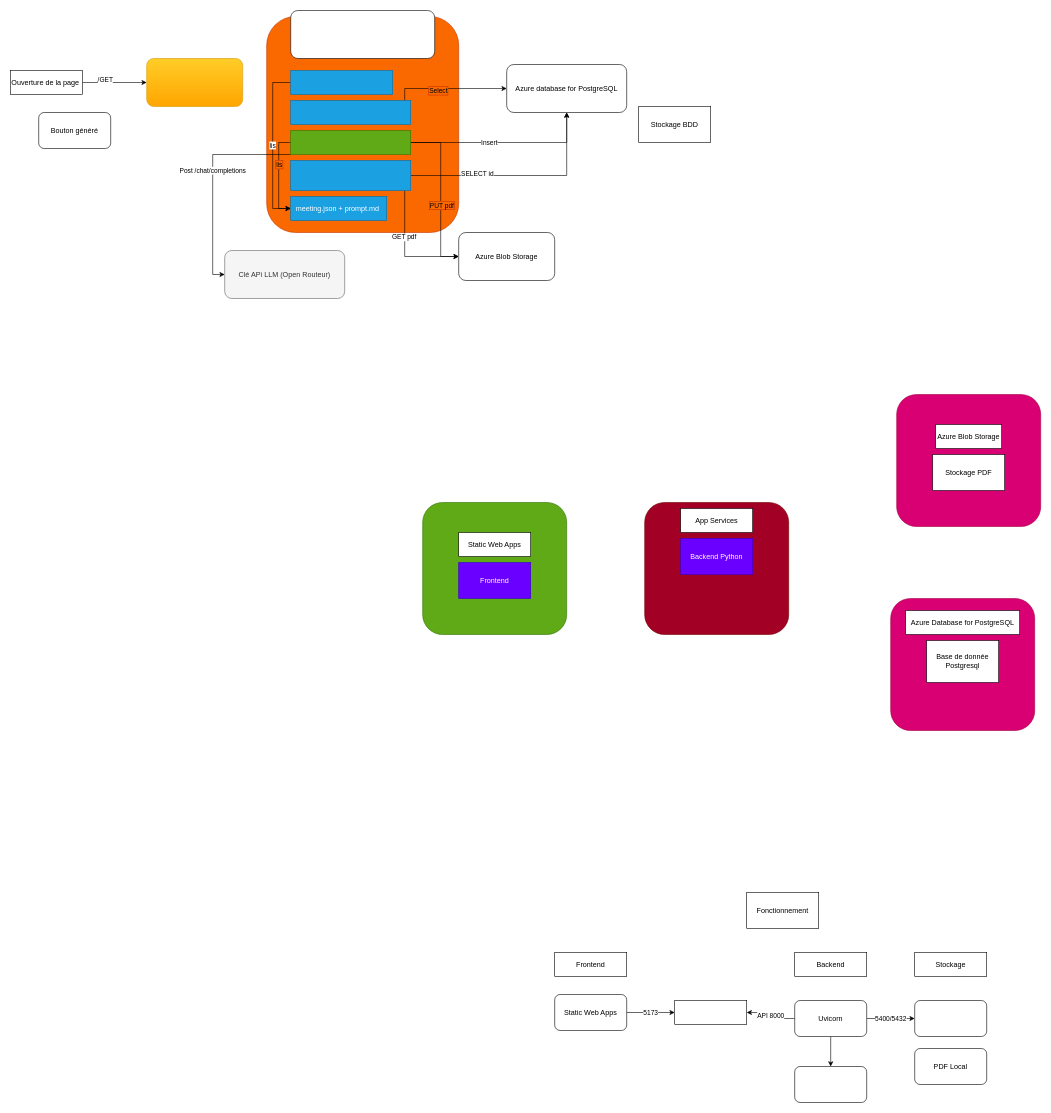
This 1051x1113 diagram has some shape labels left out. The centre of each missing label's shape, as x and y in pixels:
"App Service Windows" goes at [362,34].
"Docker/PostgreSQL Port 5432" goes at [950,1018].
"GET /api/documents (historique)" goes at [350,112].
"GET /api/documents/{id}/generate BDD>BLOB>PDF" goes at [350,175].
"GET /api/meeting (calendrier)" goes at [341,82].
"LLM OpenRouteur api" goes at [830,1084].
"Navigateur" goes at [710,1012].
"POST /api/documents/generate (LLM>PDF>BLOB>BDD)" goes at [350,142].
"Static Web App" goes at [194,82].
